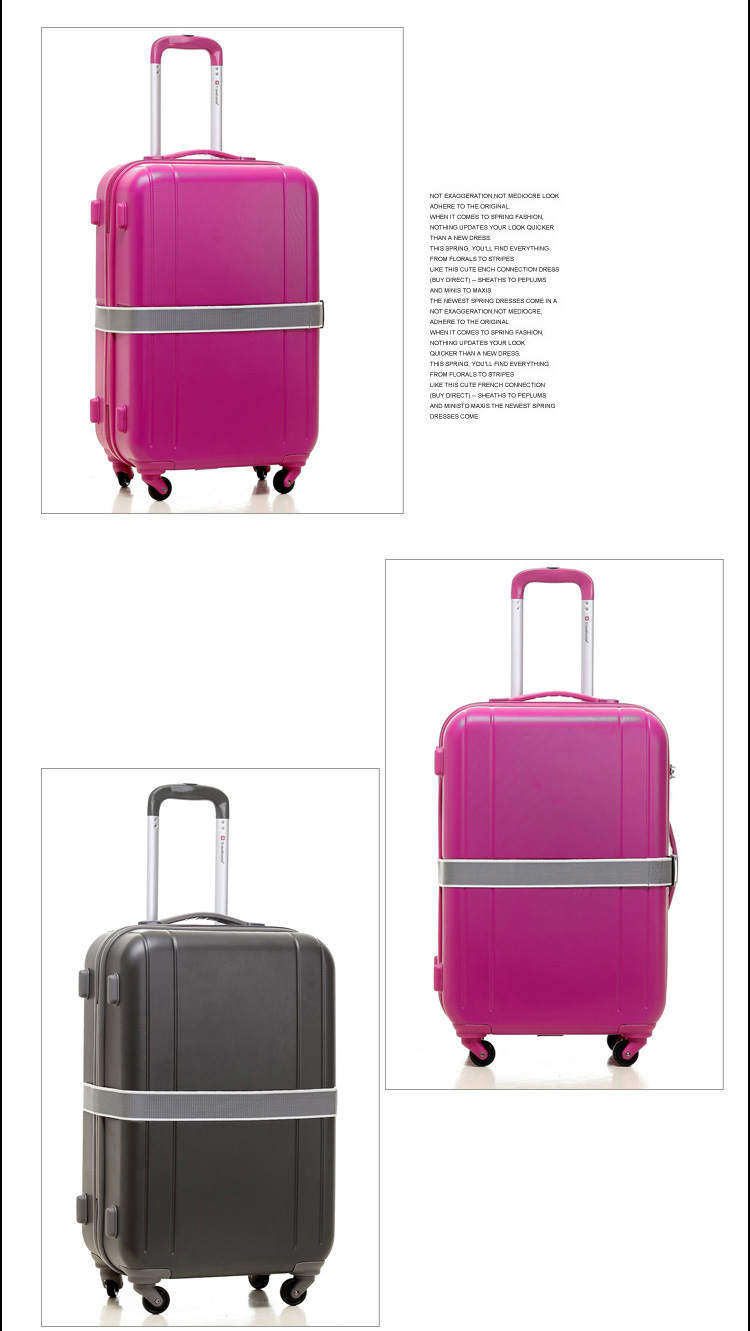suitcase: (70, 775, 339, 1318), (432, 563, 682, 1069), (89, 34, 325, 504)
